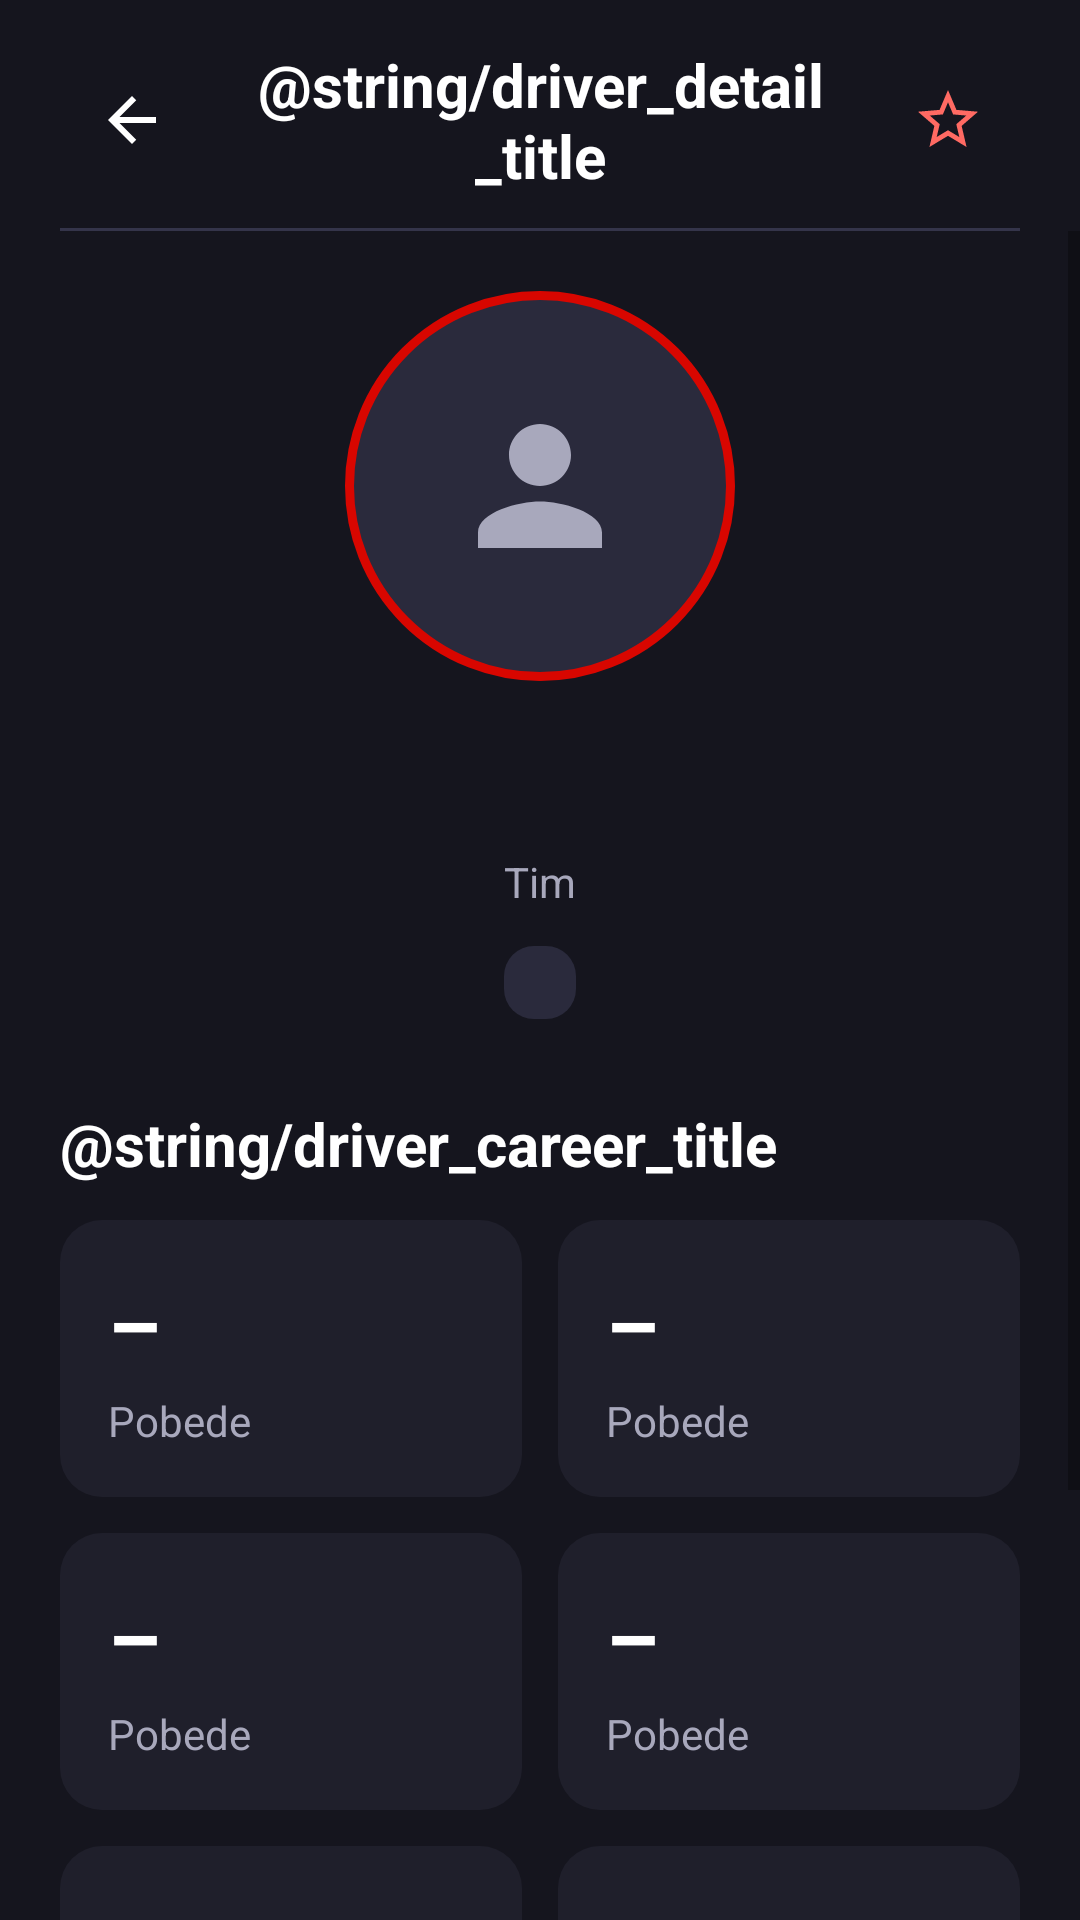

Locate icon controls on the screen. Image size 1080*1920, boxes as (x1=x1, y1=y1, x2=x2, y2=y2).
Nazad: (x1=108, y1=96, x2=156, y2=144)
star: (x1=918, y1=90, x2=978, y2=147)
